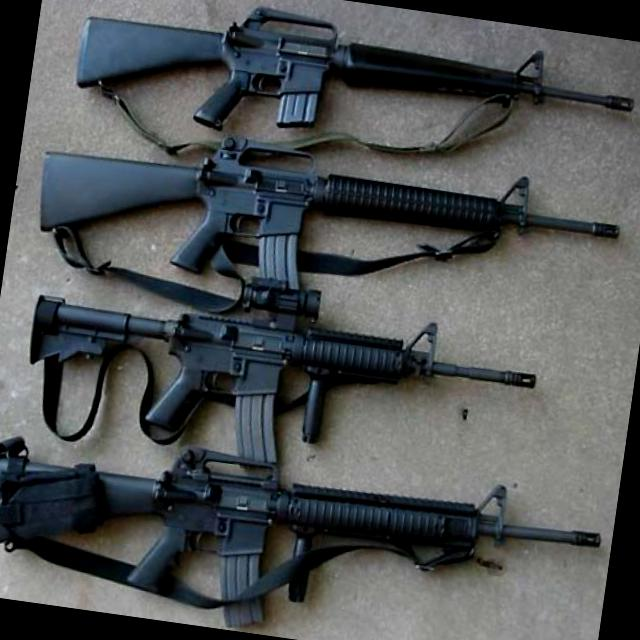long weapon: (0, 390, 600, 639), (8, 96, 606, 330), (0, 235, 567, 473), (56, 0, 615, 199)
